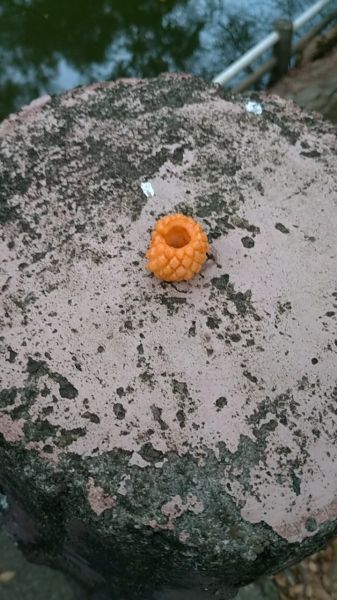eggs: (142, 209, 211, 283)
